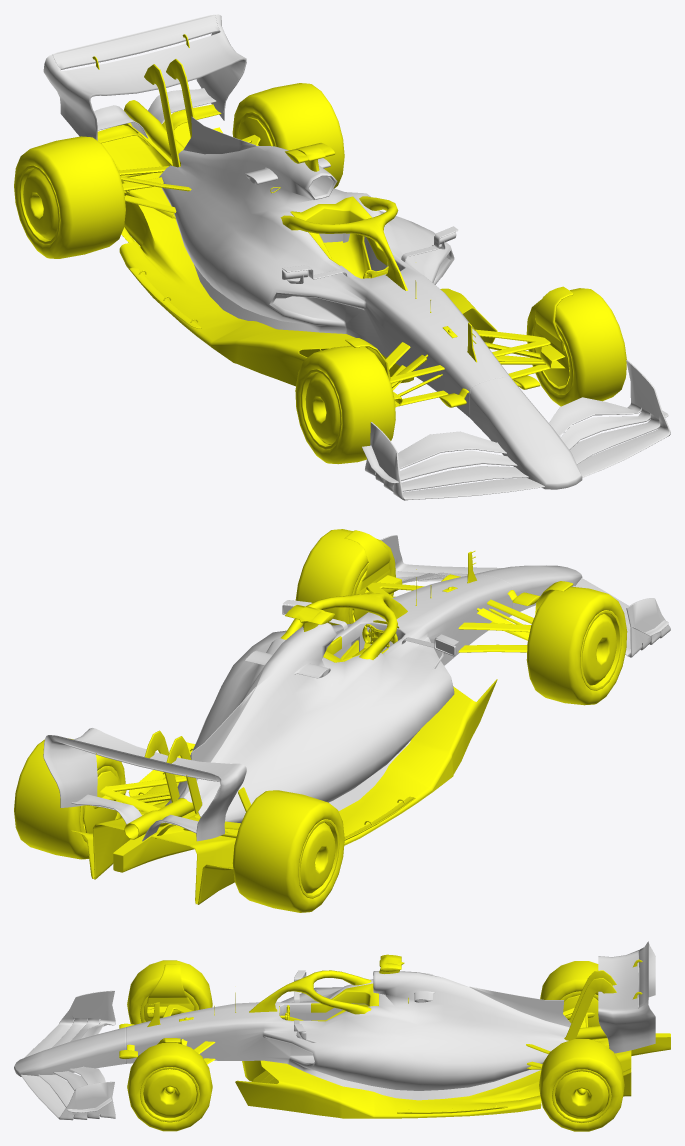
The model's file is F1PS_F1_Car_Mesh.glb.
3 views of the same model, one above another, from view 1: azimuth 30°, elevation 25°; view 2: azimuth 150°, elevation 25°; view 3: azimuth 270°, elevation 25° (orthographic). The views are drawn at different scales.
Parts seen in each view (by area): view 1: F1PS_F1_Car.023_low, F1PS_F1_Car.024_low, F1PS_F1_Car.137_low, F1PS_F1_Car.001_low, F1PS_F1_Car.021_low, F1PS_F1_Car.133_low, F1PS_F1_Car.019_low, F1PS_F1_Car_low, F1PS_F1_Car.126_low, F1PS_F1_Car.129_low, F1PS_F1_Car.010_low, F1PS_F1_Car.018_low (+13 smaller); view 2: F1PS_F1_Car.023_low, F1PS_F1_Car.024_low, F1PS_F1_Car.137_low, F1PS_F1_Car.133_low, F1PS_F1_Car.001_low, F1PS_F1_Car.129_low, F1PS_F1_Car.126_low, F1PS_F1_Car.018_low, F1PS_F1_Car_low, F1PS_F1_Car.021_low, F1PS_F1_Car.134_low, F1PS_F1_Car.138_low (+15 smaller); view 3: F1PS_F1_Car.023_low, F1PS_F1_Car.024_low, F1PS_F1_Car.001_low, F1PS_F1_Car.129_low, F1PS_F1_Car.126_low, F1PS_F1_Car.019_low, F1PS_F1_Car_low, F1PS_F1_Car.021_low, F1PS_F1_Car.133_low, F1PS_F1_Car.123_low, F1PS_F1_Car.130_low, F1PS_F1_Car.018_low (+11 smaller).
Part boxes in pixels (x1,y1,x2,y2): F1PS_F1_Car.023_low: (159, 116, 511, 417); F1PS_F1_Car.024_low: (101, 122, 497, 386); F1PS_F1_Car.137_low: (14, 136, 125, 258); F1PS_F1_Car.001_low: (43, 14, 246, 140); F1PS_F1_Car.021_low: (365, 422, 544, 500); F1PS_F1_Car.133_low: (295, 345, 395, 464); F1PS_F1_Car.019_low: (549, 360, 670, 477); F1PS_F1_Car_low: (470, 377, 582, 489); F1PS_F1_Car.126_low: (526, 288, 626, 406); F1PS_F1_Car.129_low: (232, 83, 344, 188); F1PS_F1_Car.010_low: (52, 14, 219, 69); F1PS_F1_Car.018_low: (280, 196, 407, 290); F1PS_F1_Car.023_low: (165, 574, 512, 823); F1PS_F1_Car.024_low: (93, 679, 497, 904); F1PS_F1_Car.137_low: (232, 790, 344, 912); F1PS_F1_Car.133_low: (526, 586, 627, 705); F1PS_F1_Car.001_low: (43, 728, 246, 841); F1PS_F1_Car.129_low: (14, 738, 125, 859); F1PS_F1_Car.126_low: (295, 529, 395, 625); F1PS_F1_Car.018_low: (281, 593, 407, 659); F1PS_F1_Car_low: (474, 565, 582, 611); F1PS_F1_Car.021_low: (573, 578, 670, 657); F1PS_F1_Car.134_low: (582, 614, 616, 685); F1PS_F1_Car.138_low: (300, 822, 335, 893); F1PS_F1_Car.023_low: (126, 971, 571, 1100); F1PS_F1_Car.024_low: (235, 1033, 670, 1118); F1PS_F1_Car.001_low: (598, 941, 655, 1053); F1PS_F1_Car.129_low: (539, 1039, 624, 1131); F1PS_F1_Car.126_low: (127, 1043, 212, 1131); F1PS_F1_Car.019_low: (21, 1066, 115, 1120); F1PS_F1_Car_low: (14, 1027, 125, 1076); F1PS_F1_Car.021_low: (24, 990, 115, 1057); F1PS_F1_Car.133_low: (127, 960, 212, 1024); F1PS_F1_Car.123_low: (143, 1069, 196, 1117); F1PS_F1_Car.130_low: (555, 1071, 608, 1118); F1PS_F1_Car.018_low: (249, 970, 371, 1014).
Bounding box in the file's own units: 65.97 × 37.43 × 179.
Materials: 2 (1 with a texture image).
